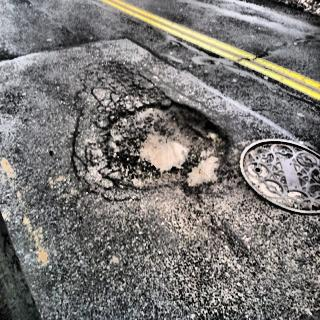alligator-crack: (70, 86, 110, 197), (96, 64, 166, 101)
crack: (236, 48, 277, 65)
pothole: (110, 102, 228, 196)
